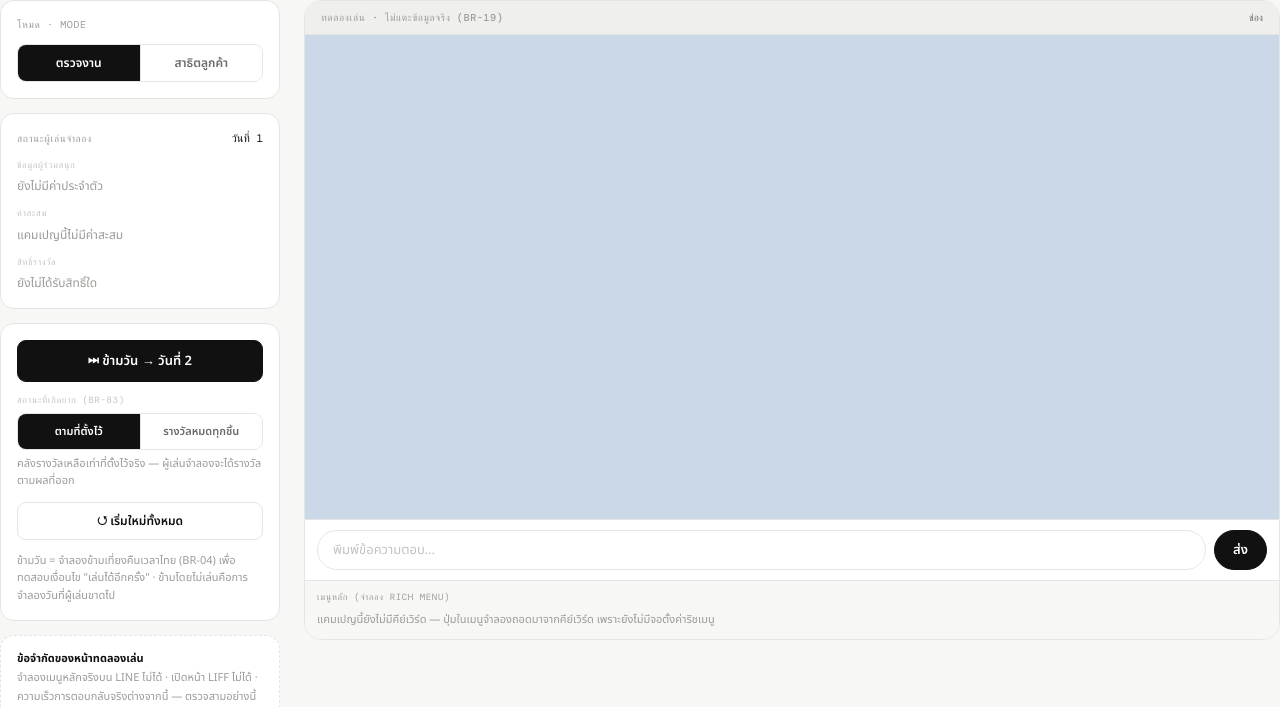
Test case: แผงสถานะผู้เล่นจำลอง › แผงอัปเดตตามผลของการเล่น ไม่ค้างอยู่กับของตอนเปิดจอ
The width and height of the screenshot is (1280, 707).
Check: the text "ยังไม่ได้รับสิทธิ์ใด" is shown, box [17,274,97,292]
Type "เล่น" into the field with placeholder "พิมพ์ข้อความตอบ…" at (762, 550), box [317,530,1206,570]
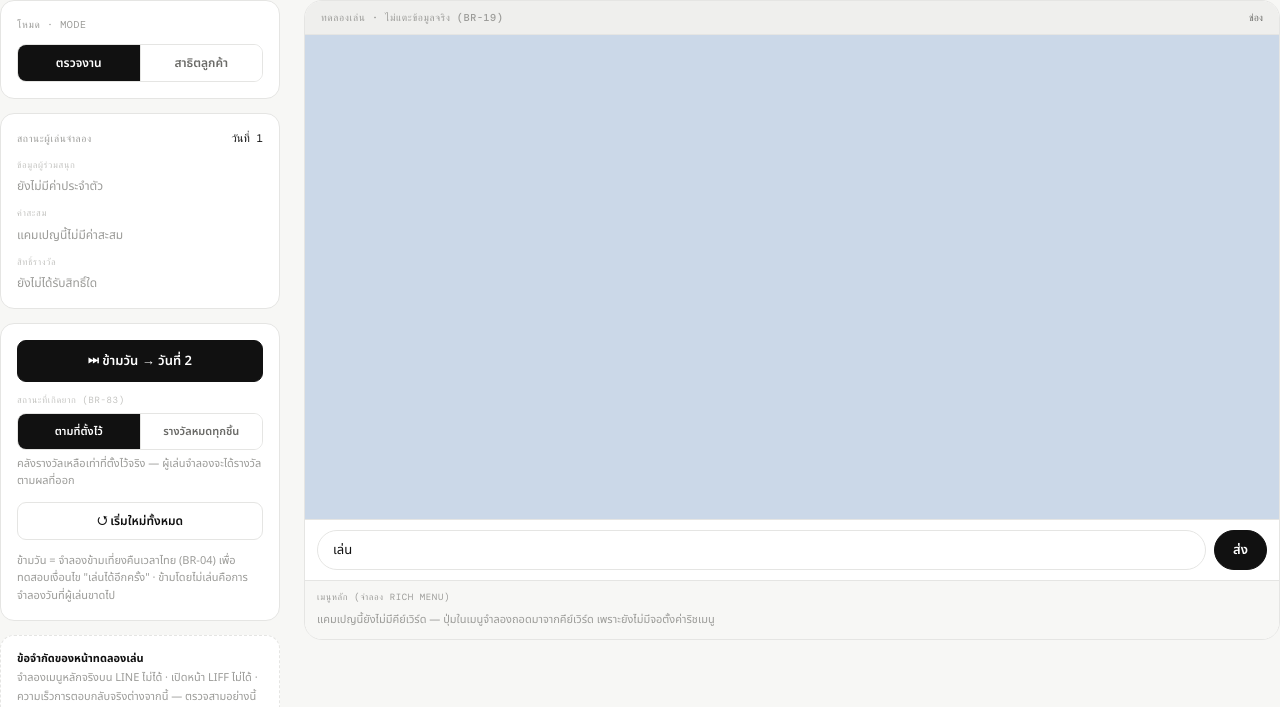
Click the button "ส่ง" at (1241, 550), box [1214,530,1267,570]
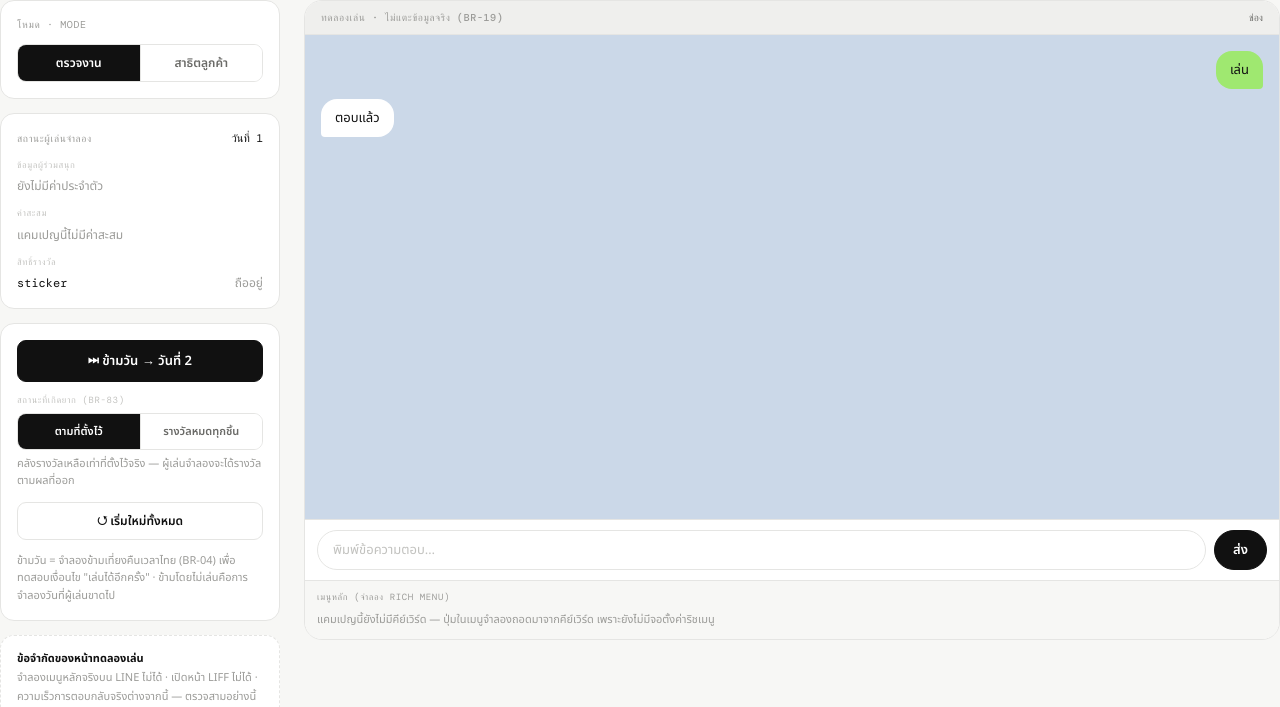
Check: the text "sticker" is shown, box [17,274,67,292]
